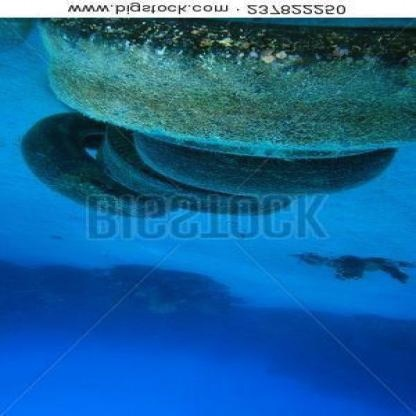tire: (35, 21, 413, 158), (122, 128, 401, 196), (3, 107, 166, 221), (90, 121, 283, 215)
